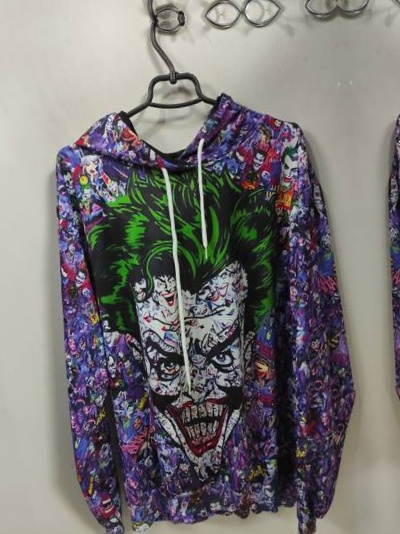Hoodie: (12, 52, 366, 534), (364, 18, 400, 507)
